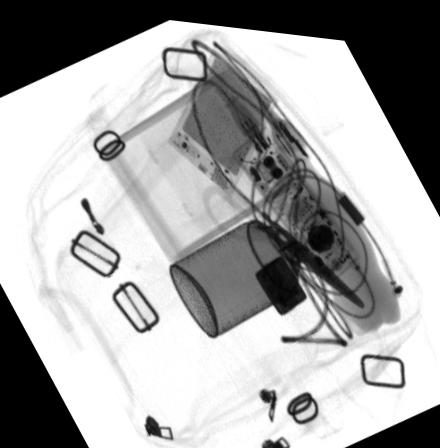Lighter: (251, 245, 307, 309)
Powerbank: (166, 41, 279, 191)
Scissors: (198, 149, 366, 302)
Sprayer: (169, 212, 302, 334)
